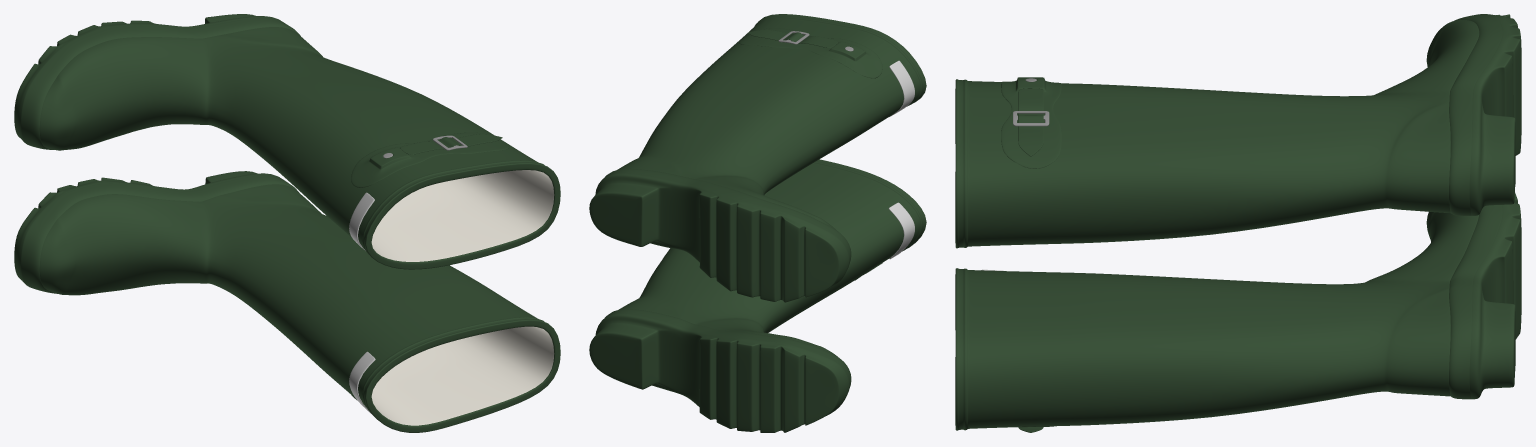
File: 12969_rain_boots_adult_v1_l3.obj
The picture shows the model from 3 angles, left to right: view 1: azimuth 30°, elevation 25°; view 2: azimuth 150°, elevation 25°; view 3: azimuth 270°, elevation 25°; orthographic projection. The views are drawn at different scales.
Parts seen in each view (by area): view 1: rain_boots___adult_body, rain_boots___adult_body01, rain_boots___adult_body_2, rain_boots___adult_body_03, rain_boots___adult_detail_05, rain_boots___adult_detail_04, rain_boots___adult_logo01, rain_boots___adult_logo; view 2: rain_boots___adult_body01, rain_boots___adult_body, rain_boots___adult_detail_05, rain_boots___adult_detail_04, rain_boots___adult_logo, rain_boots___adult_logo01; view 3: rain_boots___adult_body, rain_boots___adult_body01, rain_boots___adult_detail_05, rain_boots___adult_detail_04.
Boxes of the visible parts, <box> form: rain_boots___adult_body: <box>14,171,560,432</box>; rain_boots___adult_body01: <box>14,14,560,269</box>; rain_boots___adult_body_2: <box>371,326,554,425</box>; rain_boots___adult_body_03: <box>371,170,554,261</box>; rain_boots___adult_detail_05: <box>351,132,509,187</box>; rain_boots___adult_detail_04: <box>400,134,502,154</box>; rain_boots___adult_logo01: <box>349,192,374,250</box>; rain_boots___adult_logo: <box>349,351,375,414</box>; rain_boots___adult_body01: <box>589,14,926,302</box>; rain_boots___adult_body: <box>589,159,926,432</box>; rain_boots___adult_detail_05: <box>739,28,882,78</box>; rain_boots___adult_detail_04: <box>748,29,838,47</box>; rain_boots___adult_logo: <box>888,202,914,259</box>; rain_boots___adult_logo01: <box>889,60,914,116</box>; rain_boots___adult_body: <box>955,193,1521,430</box>; rain_boots___adult_body01: <box>955,14,1521,248</box>; rain_boots___adult_detail_05: <box>1001,77,1061,168</box>; rain_boots___adult_detail_04: <box>1018,88,1043,156</box>.
Size of the model in its own units: 11.18 by 8.53 by 14.52.
